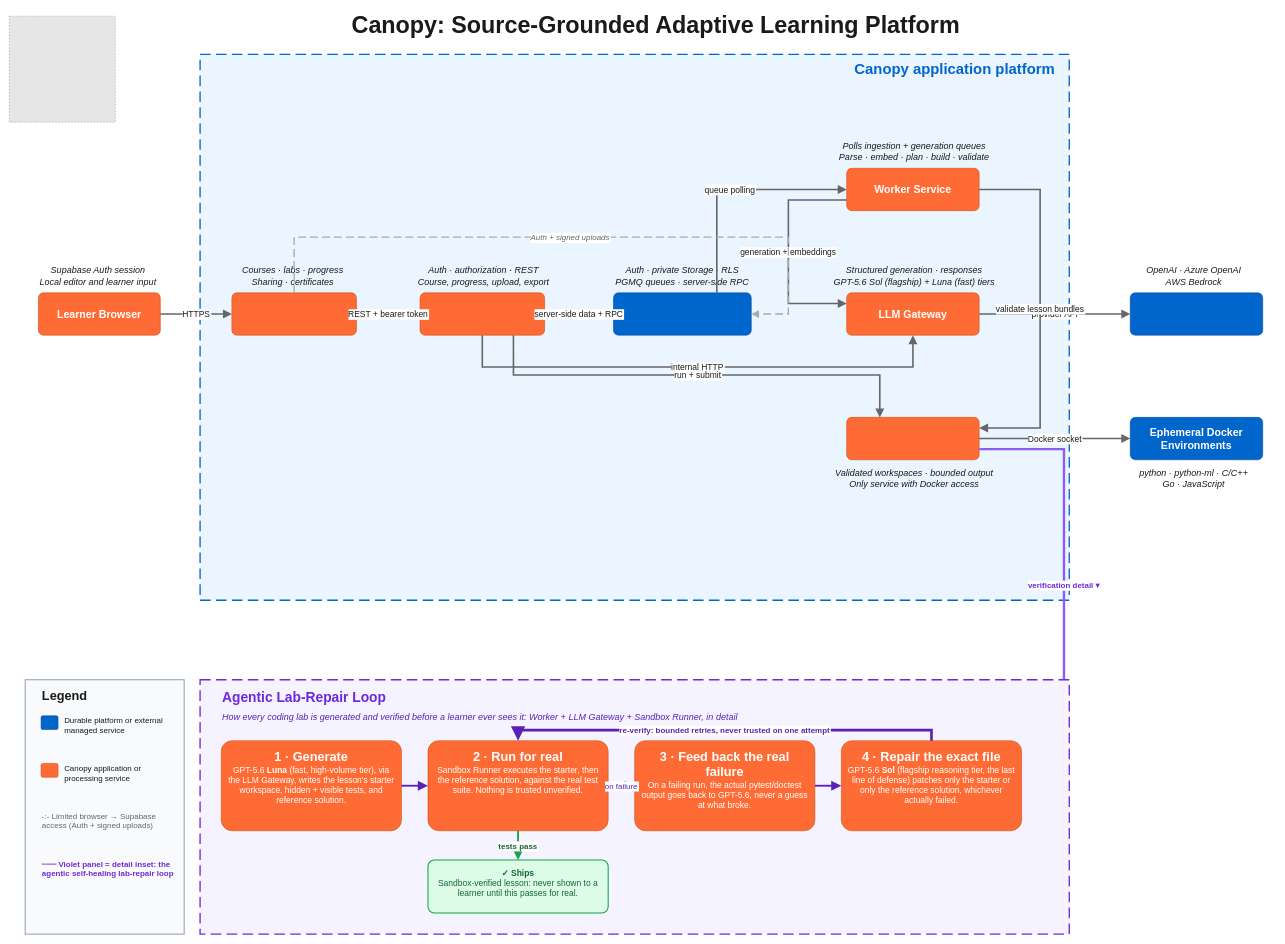
This 1285x944 diagram has some shape labels left out. Grey dashed boxes stand in for pictures. The shapes that lost their labels are listed below. From the top down, each one's centre as x and y in pixels, then its label:
the point at 293,313: Next.js Web App
the point at 482,313: FastAPI API
the point at 682,313: Supabase Postgres + pgvector
the point at 1196,313: Model Providers
the point at 912,438: Sandbox Runner
